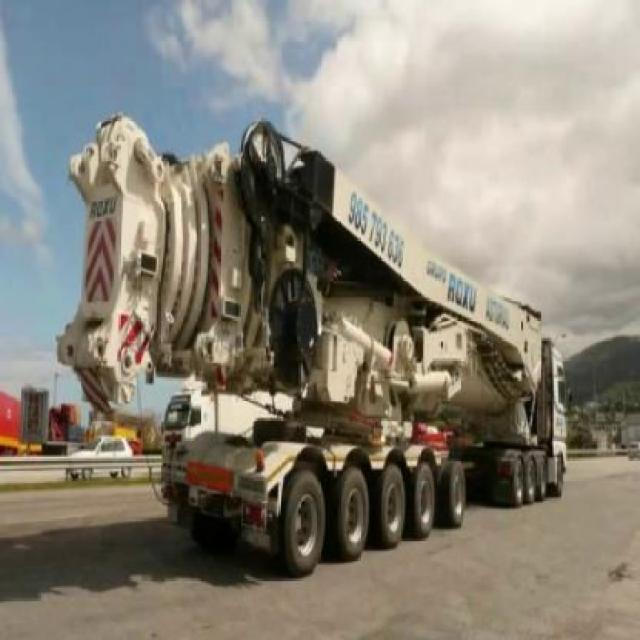Mobile Crane: (59, 116, 566, 564)
